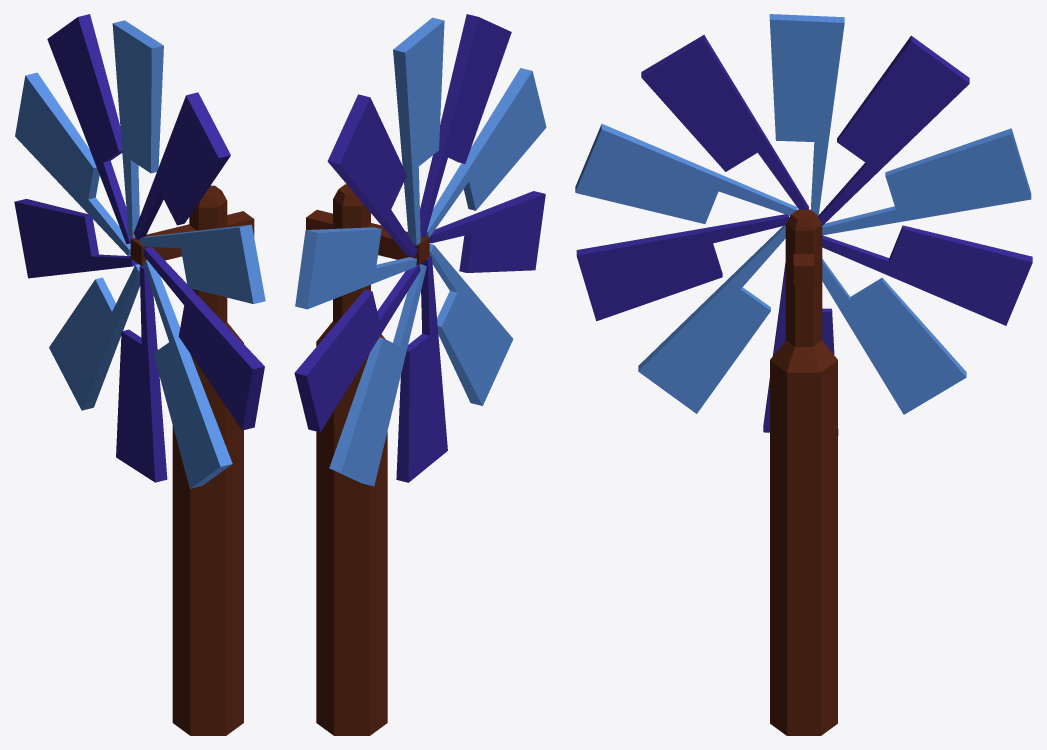
The model's file is Pinwheel.fbx.
3 views of the same model, side by side, from view 1: azimuth 30°, elevation 25°; view 2: azimuth 150°, elevation 25°; view 3: azimuth 270°, elevation 25° (orthographic). The views are drawn at different scales.
Visible parts, largest first — view 1: Wheels, Stick; view 2: Wheels, Stick; view 3: Wheels, Stick.
Boxes of the visible parts, left/top/right/bottom form: Wheels: left=14, top=14, right=265, bottom=488; Stick: left=130, top=185, right=254, bottom=735; Wheels: left=294, top=14, right=546, bottom=486; Stick: left=306, top=184, right=429, bottom=735; Wheels: left=575, top=14, right=1032, bottom=435; Stick: left=770, top=209, right=837, bottom=735.
Size of the model in its own units: 22.83 by 134 by 82.3.
